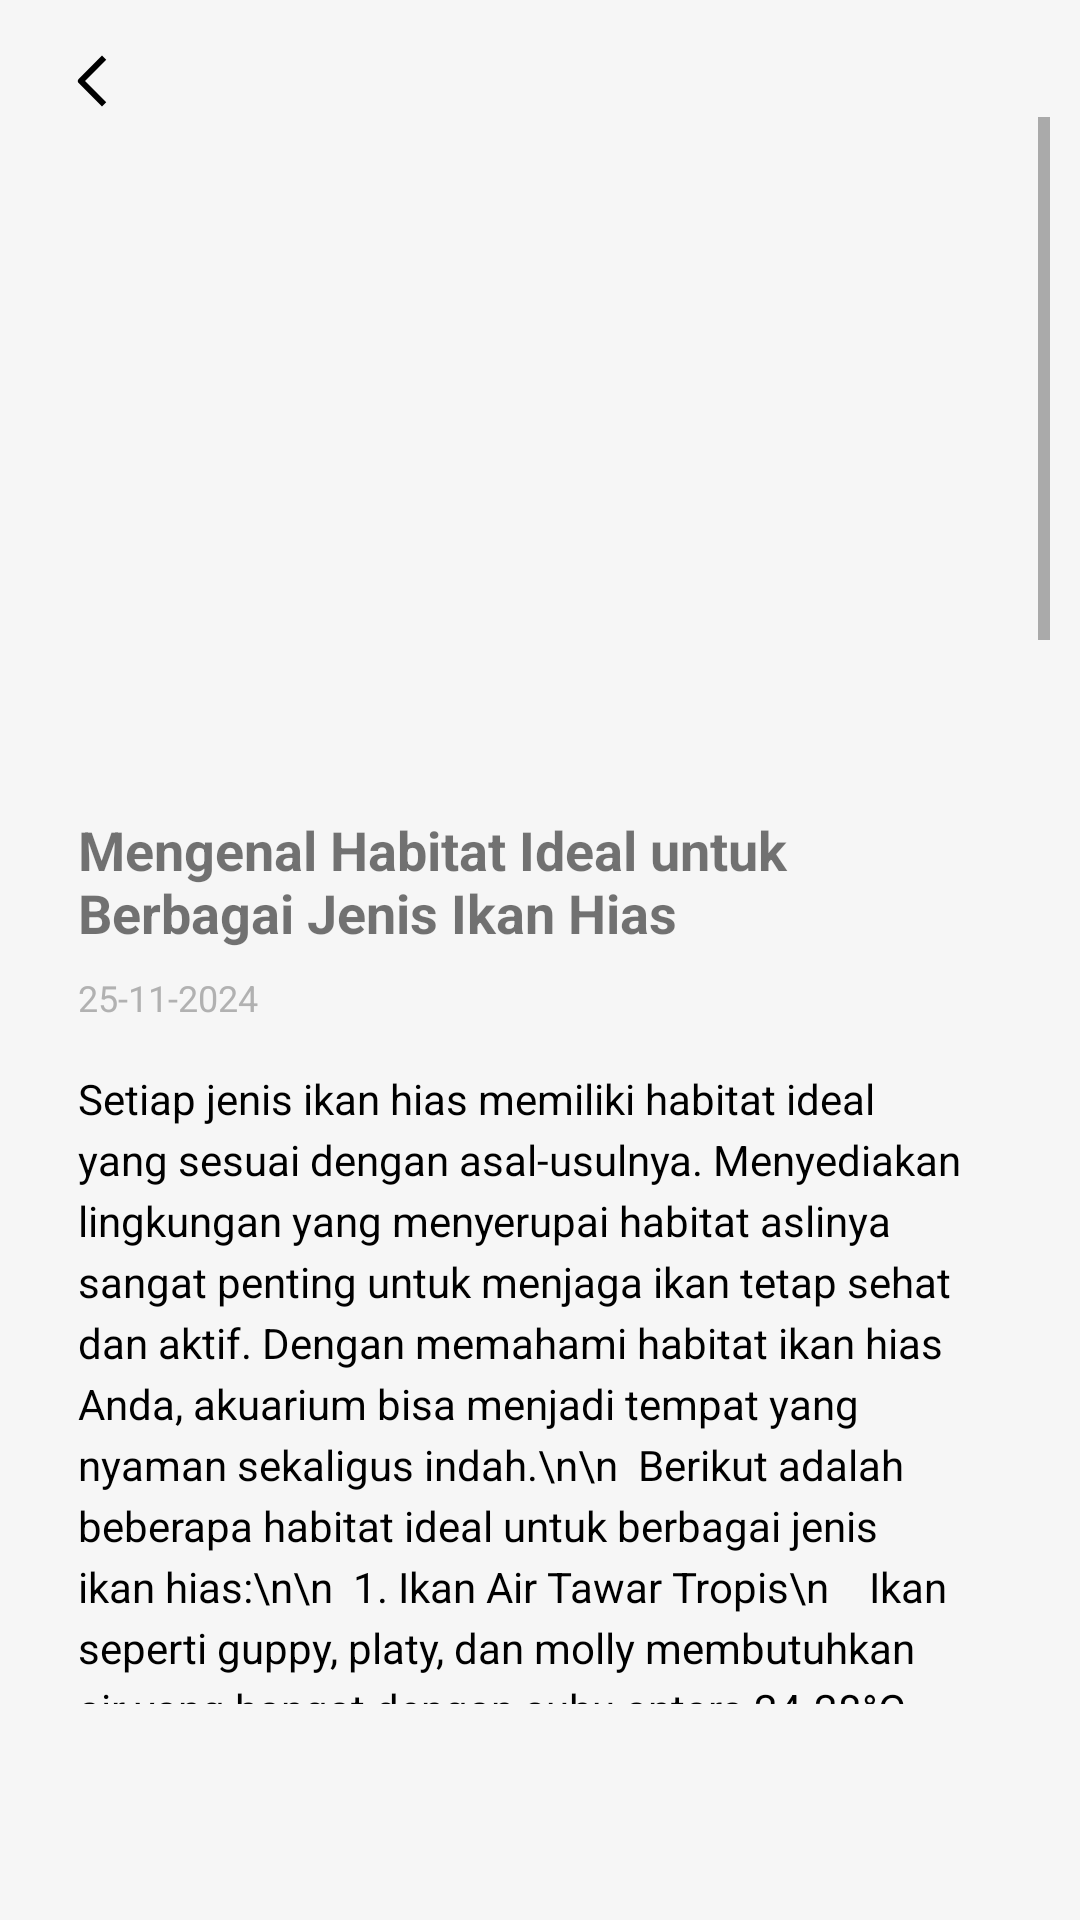

Screen size 1080 × 1920. Icon name, then its center in pixels as point (x, y):
Kembali: point (91, 81)
